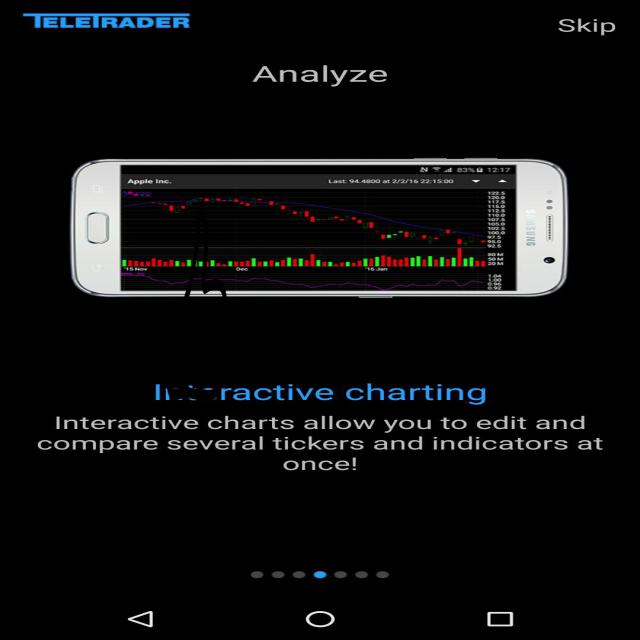privacy zuckering: (166, 212, 229, 401)
